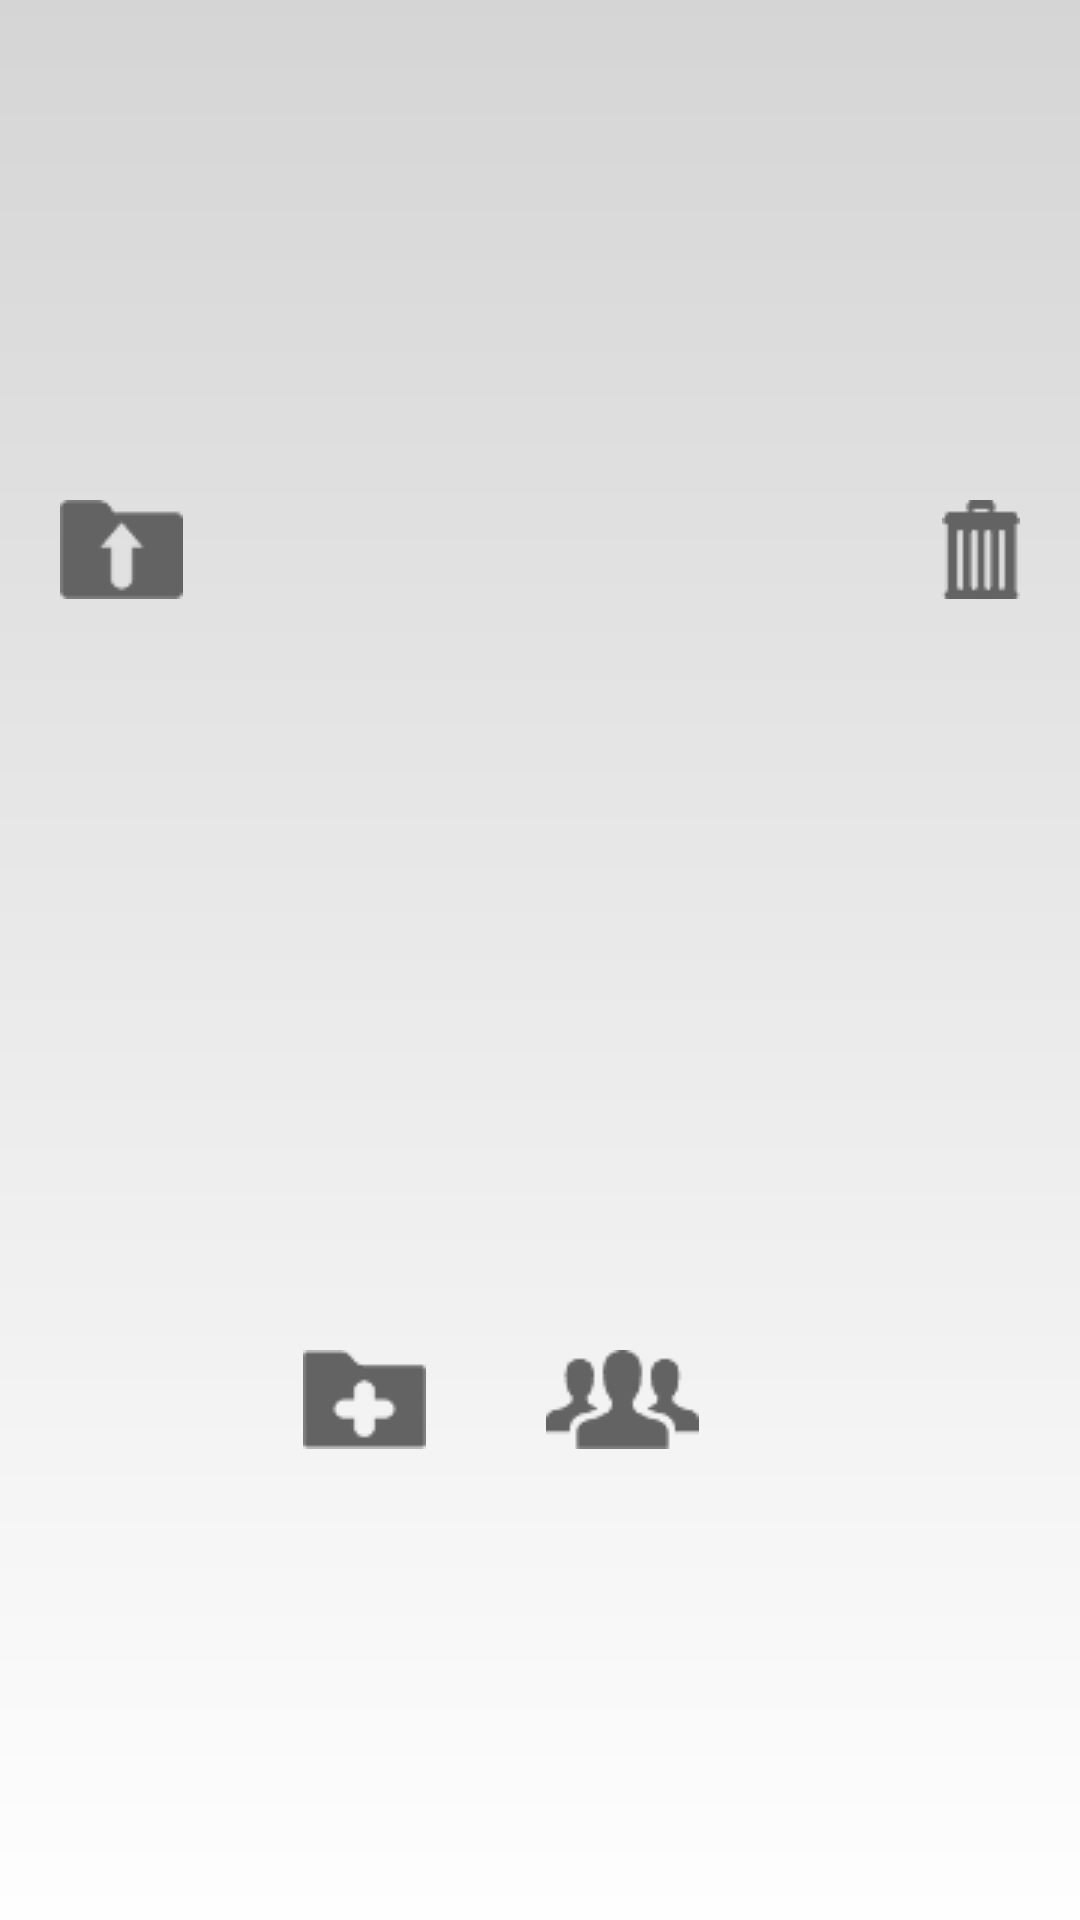

Screen size 1080w x 1920h. Icon name, then its box in pixels as {"x1": x1, "y1": y1, "x2": x2, "y2": y2}:
btnadd: {"x1": 303, "y1": 1350, "x2": 426, "y2": 1449}
btndelete: {"x1": 942, "y1": 500, "x2": 1020, "y2": 599}
btnupload: {"x1": 60, "y1": 500, "x2": 183, "y2": 599}
